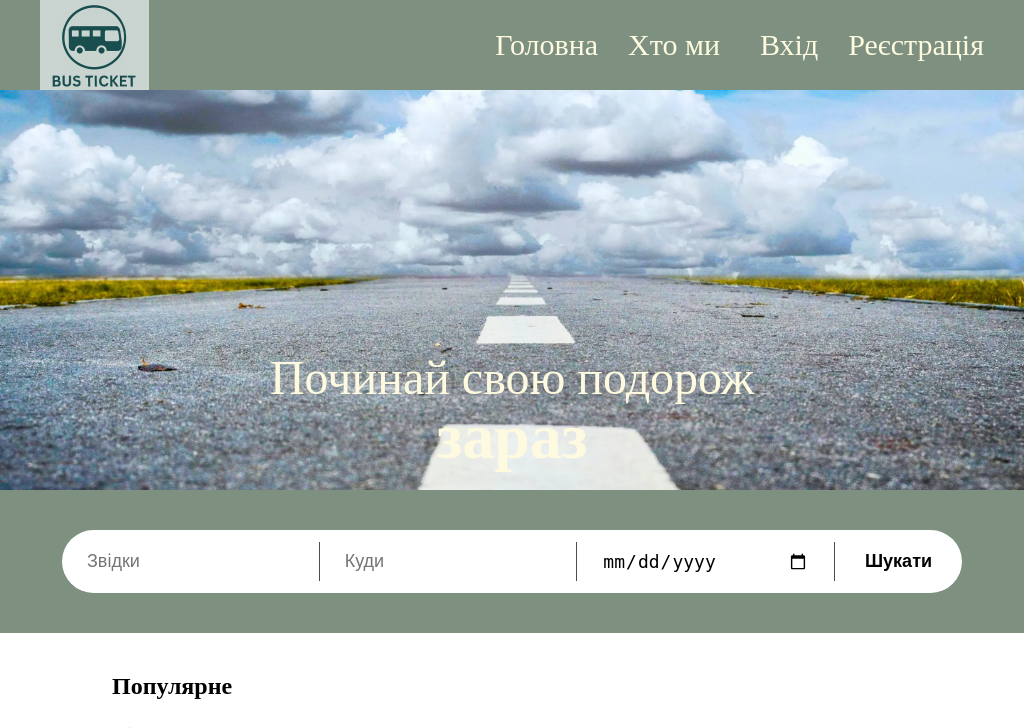
Test case: Registration and login › login
Click the link "Вхід": (789, 45) [760,28,818,62]
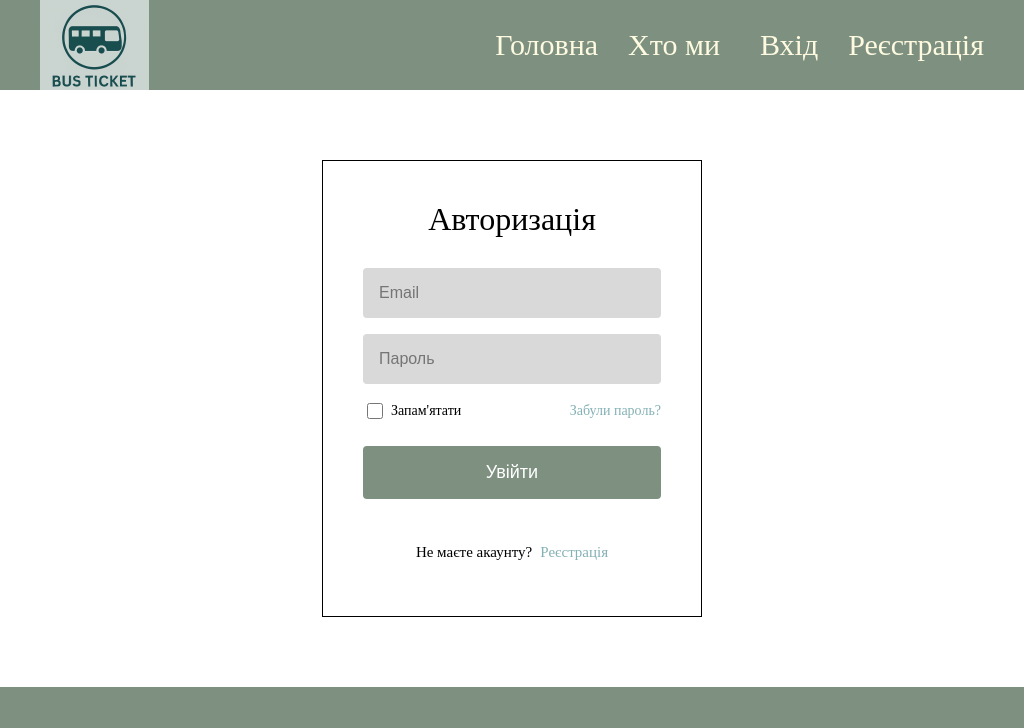
In the field named "email": (512, 293) [363,268,661,318], type "text@cypress.test"
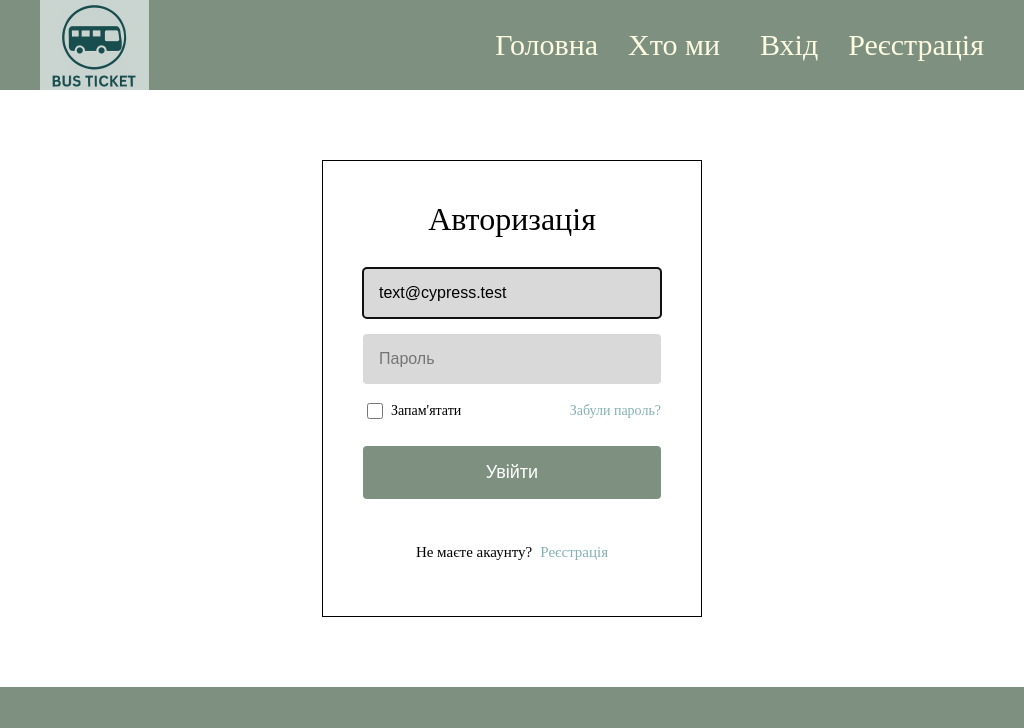
In the password field named "password": (512, 359) [363,334,661,384], type "gwghegheigig"
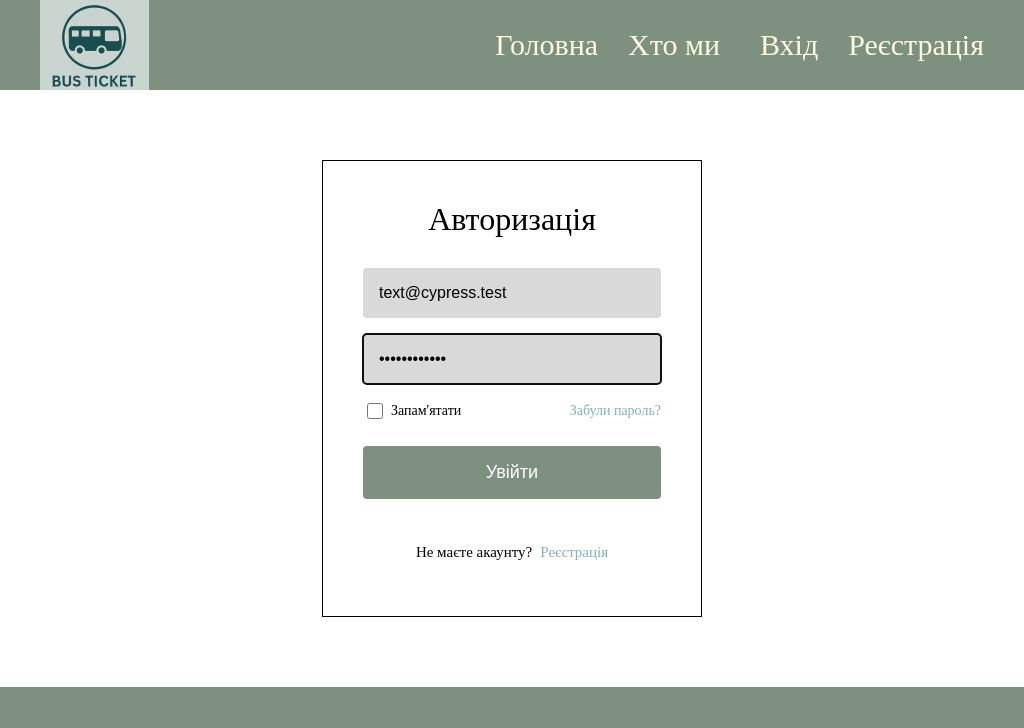
Click the button "Увійти": (512, 473) [363,446,661,499]
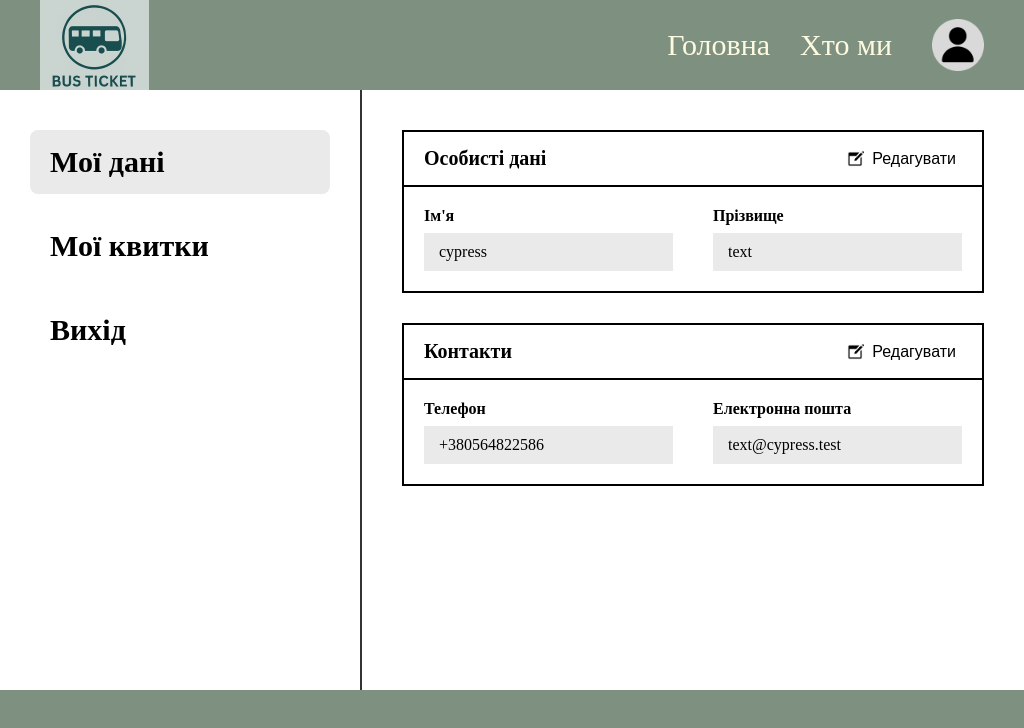
Expected: the text "cypress" is shown, [424,233,673,271]
Expected: the text "+380564822586" is shown, [424,426,673,464]
Click the link "Мої квитки": (130, 246) [50,229,209,262]
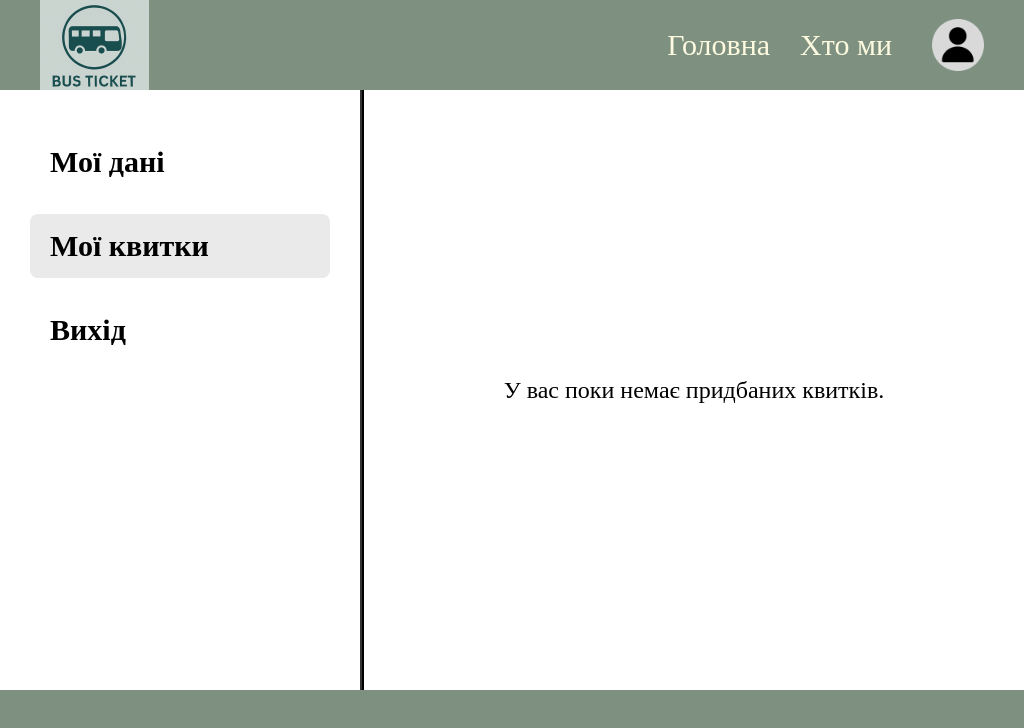
Expected: the text "немає придбаних квитків" is shown, [504,377,885,403]
Click the link "Вихід": (88, 330) [50,313,126,346]
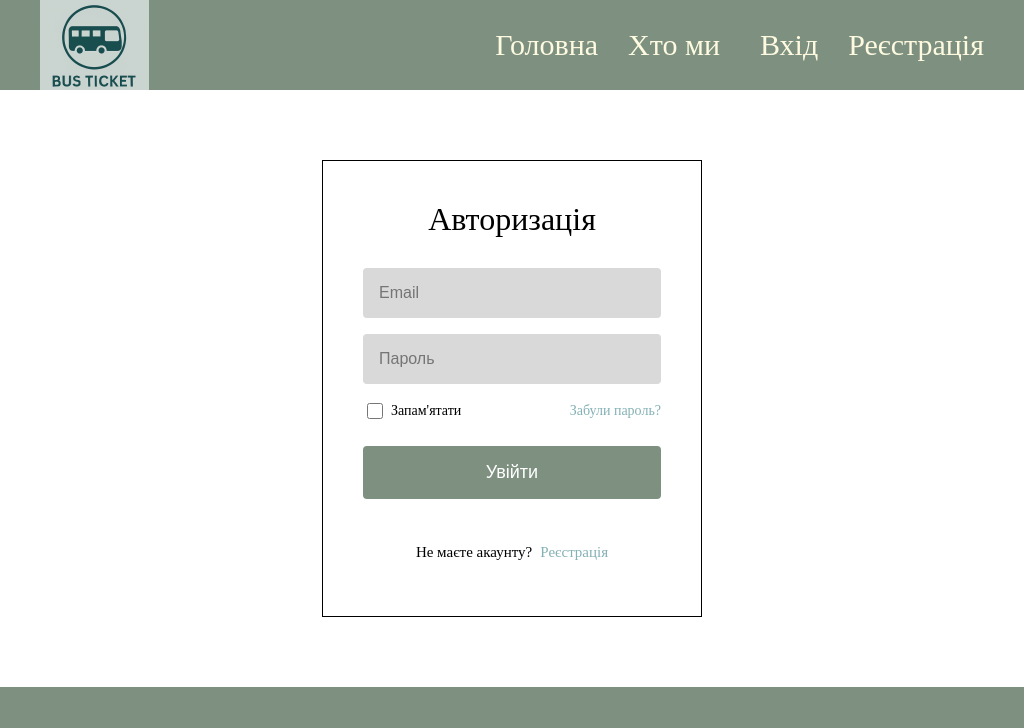
Expected: the link "Реєстрація" next to "Вхід" is shown, [848,28,984,62]
